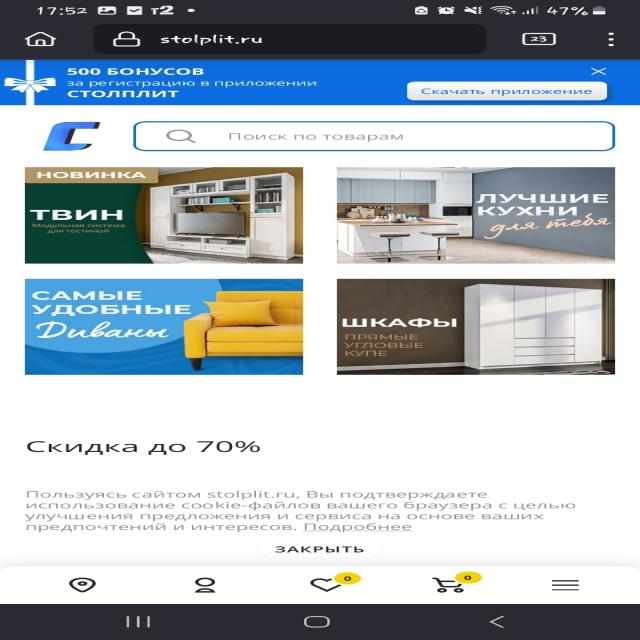button: (407, 81, 609, 101), (258, 538, 384, 559), (589, 64, 611, 77)
site: (0, 479, 640, 565), (0, 59, 640, 104)
